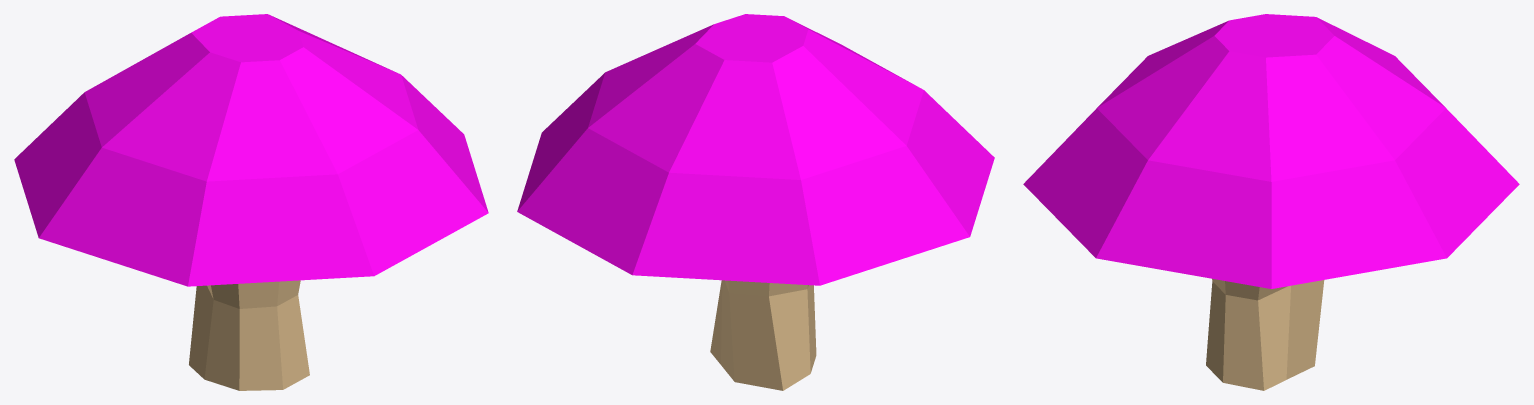
File: PinkMushroom.fbx
The picture shows the model from 3 angles, left to right: view 1: azimuth 30°, elevation 25°; view 2: azimuth 150°, elevation 25°; view 3: azimuth 270°, elevation 25°; orthographic projection.
Visible parts, largest first — view 1: Circle; view 2: Circle; view 3: Circle.
Boxes of the visible parts, x1,y1,x2,y2 form: Circle: (14,14,488,390); Circle: (517,14,994,390); Circle: (1023,14,1519,390).
Bounding box in the file's own units: 98.96 × 72.82 × 98.96.
